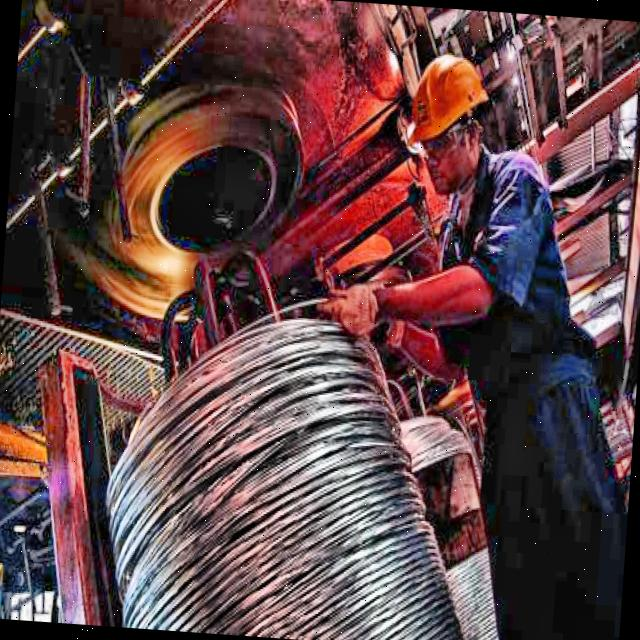helmet: (399, 36, 508, 205)
